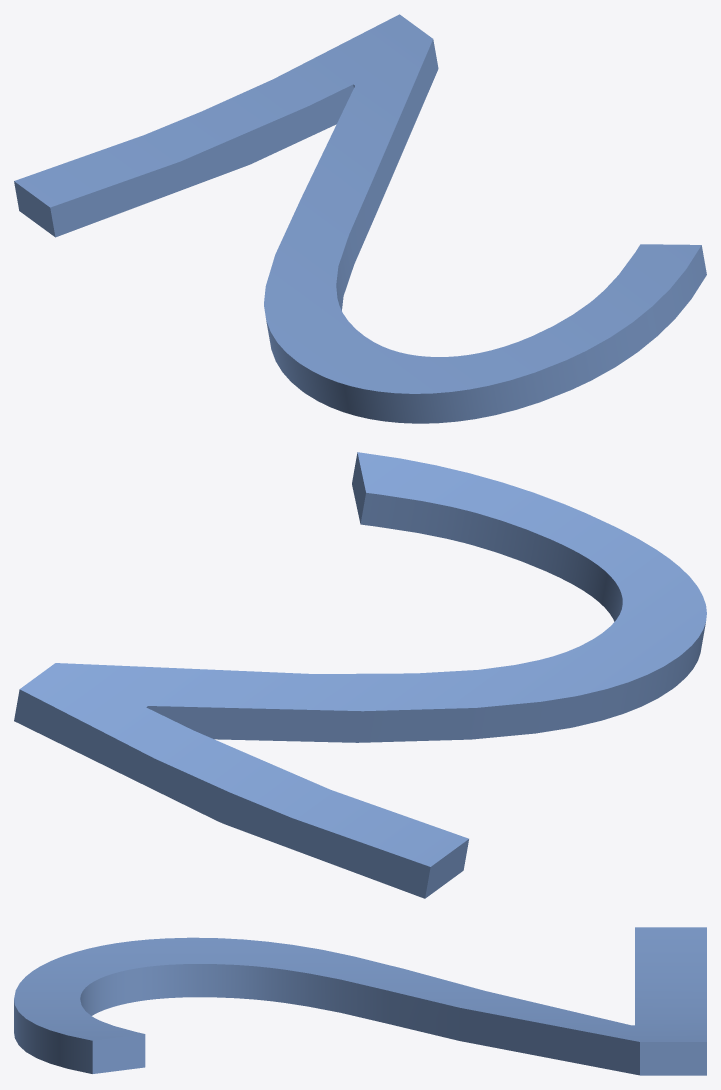
Rendered from Number_2.gltf.
3 views of the same model, one above another, from view 1: azimuth 30°, elevation 25°; view 2: azimuth 150°, elevation 25°; view 3: azimuth 270°, elevation 25° (orthographic). The views are drawn at different scales.
Parts seen in each view (by area): view 1: Sub_5_Cell_1_1_Number_2; view 2: Sub_5_Cell_1_1_Number_2; view 3: Sub_5_Cell_1_1_Number_2.
Part boxes in pixels (left/top/right/bottom): Sub_5_Cell_1_1_Number_2: left=14, top=14, right=706, bottom=423; Sub_5_Cell_1_1_Number_2: left=14, top=452, right=706, bottom=898; Sub_5_Cell_1_1_Number_2: left=14, top=927, right=706, bottom=1075.
Size of the model in its own units: 0.0165 by 0.00419 by 0.0255.
